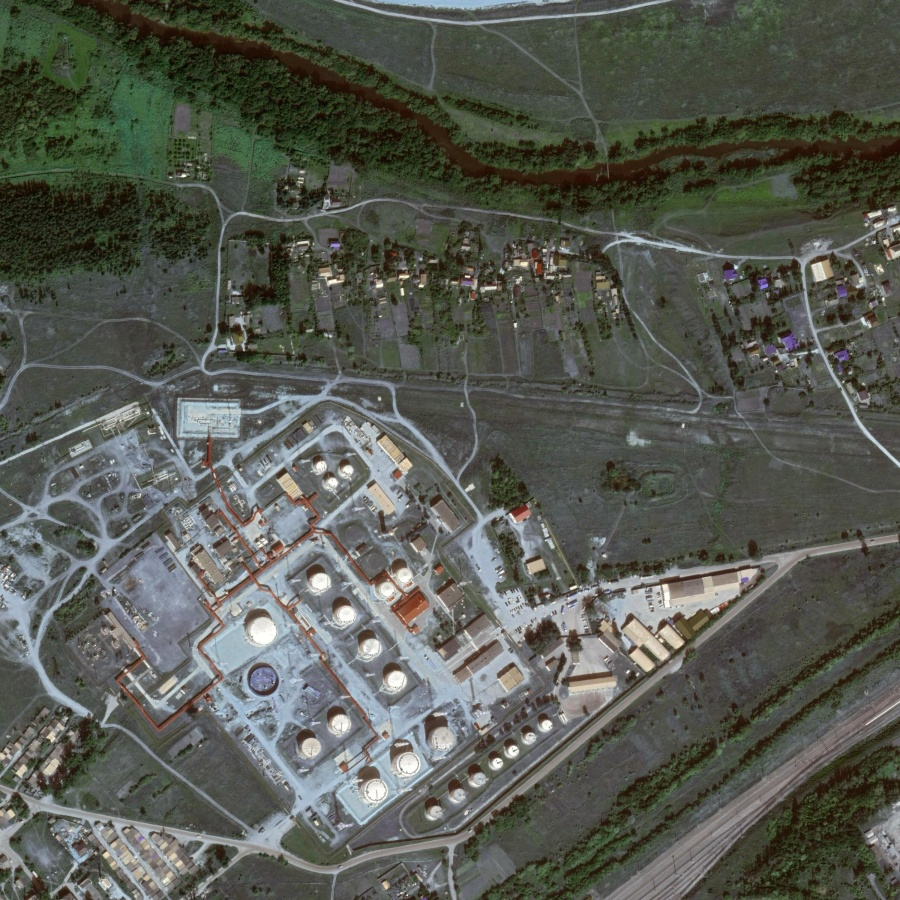PowerPlant: (246, 531, 559, 822)
